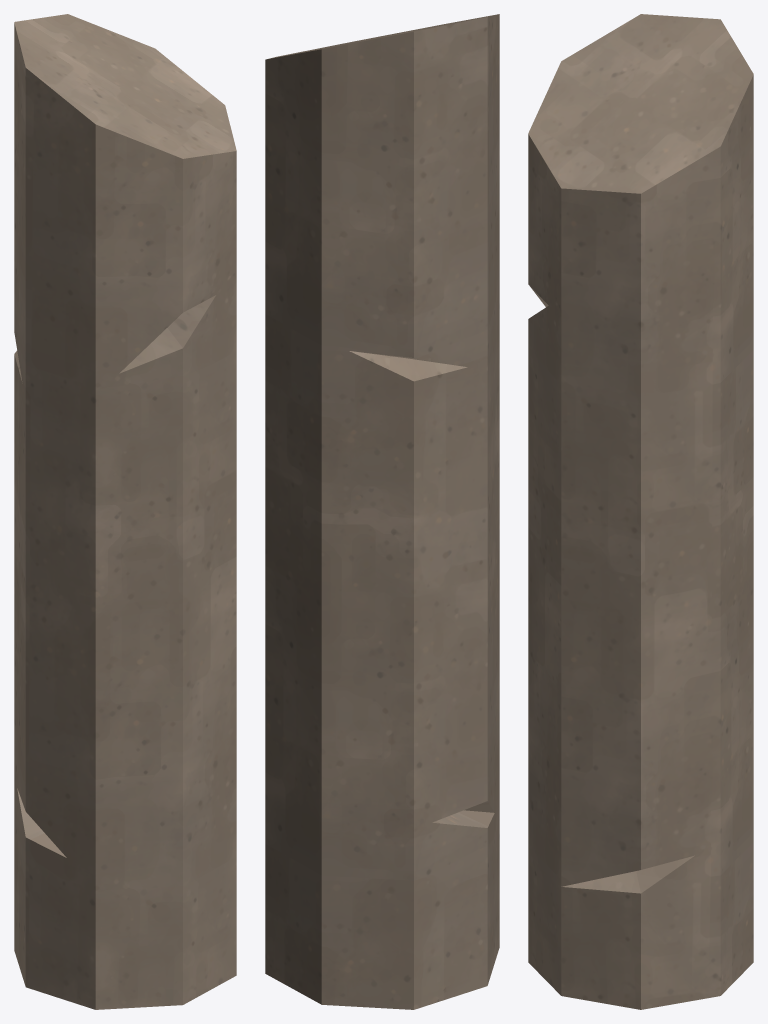
File: Pillar_6.fbx
3 renders of one model, left to right at view 1: azimuth 30°, elevation 25°; view 2: azimuth 150°, elevation 25°; view 3: azimuth 270°, elevation 25°, orthographic. The views are drawn at different scales.
Parts seen in each view (by area): view 1: _Pillar_6; view 2: _Pillar_6; view 3: _Pillar_6.
Part boxes in pixels (x1,y1,x2,y2): _Pillar_6: (14,14,236,1009); _Pillar_6: (265,14,499,1009); _Pillar_6: (528,14,753,1009).
Bounding box in the file's own units: 83.4 × 371 × 83.4.
